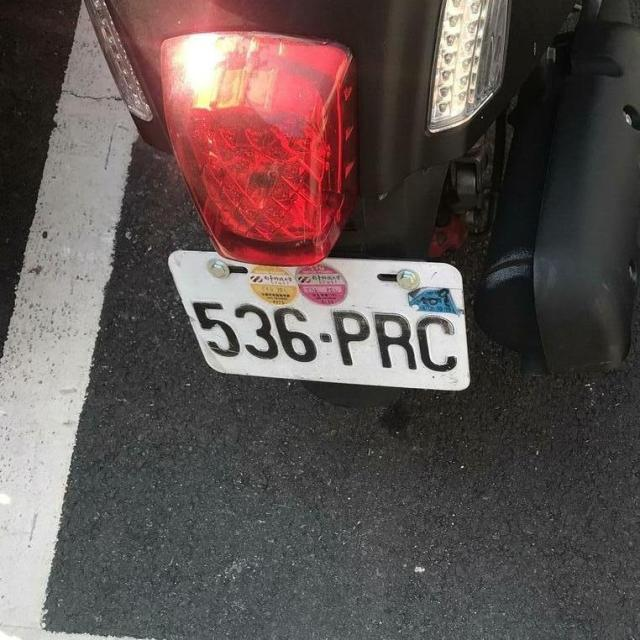W: (166, 238, 476, 399)
